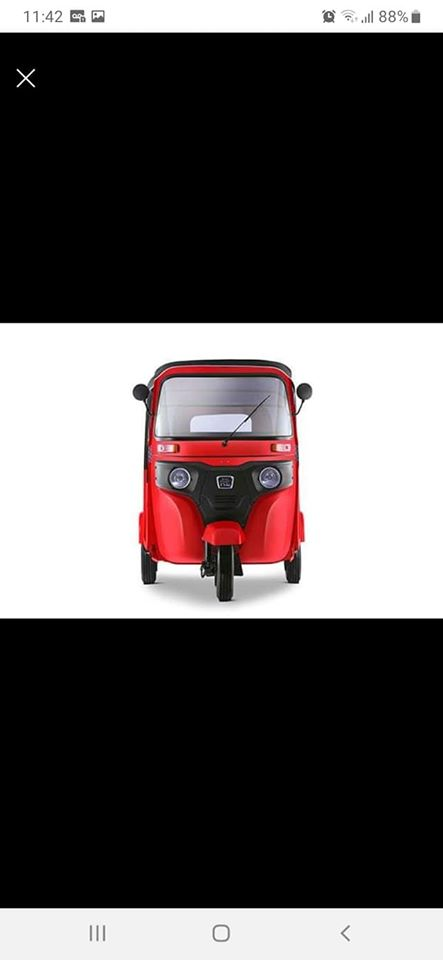mototaxi: (127, 359, 312, 600)
